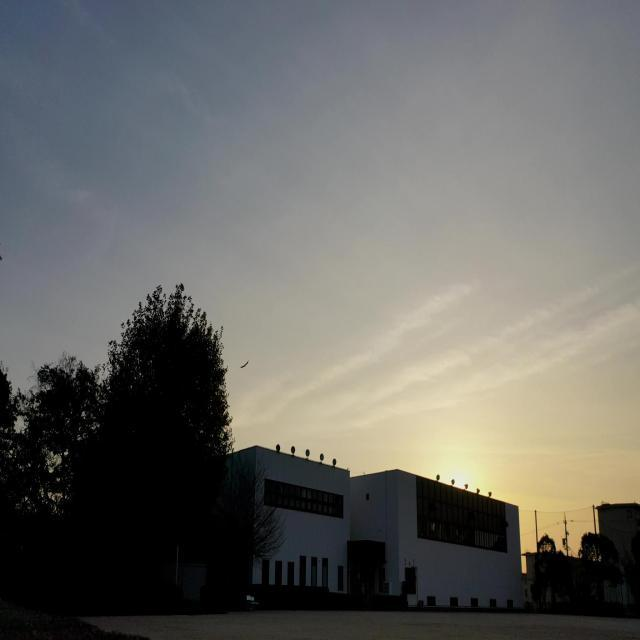Birds: (240, 358, 248, 370)
